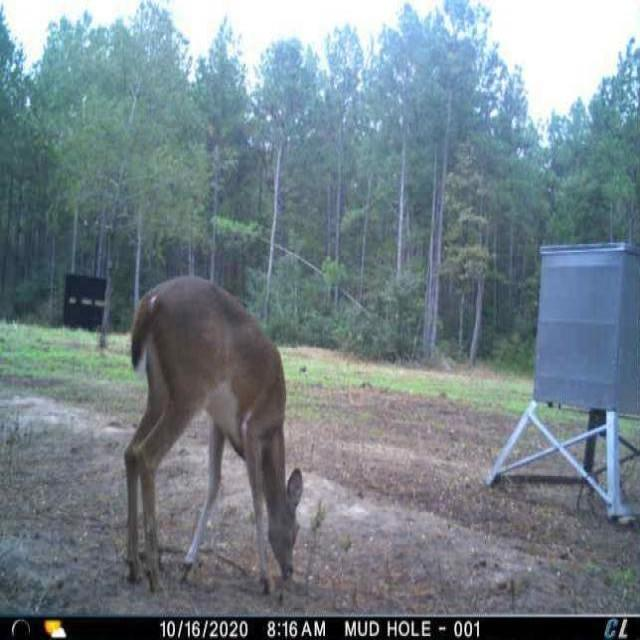deer: (118, 269, 307, 600)
